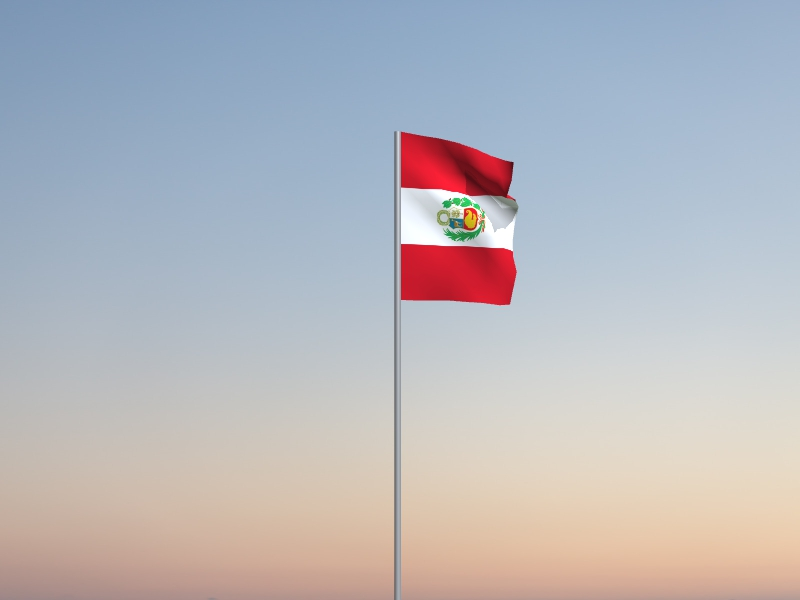pe: (402, 133, 520, 307)
